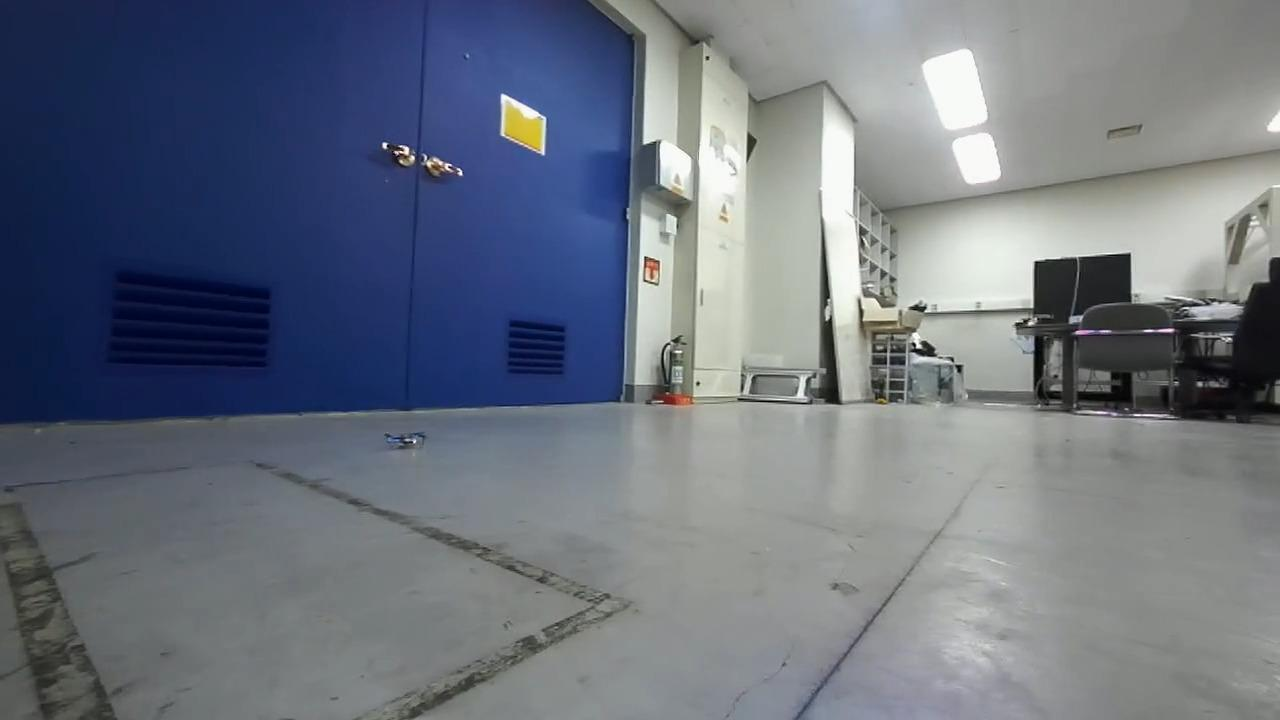crazyflie: (444, 426, 499, 457)
